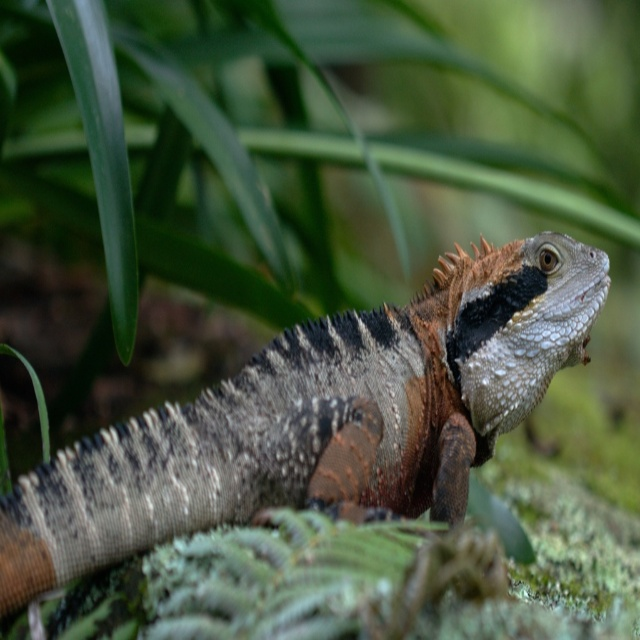Lizard: (0, 231, 611, 619)
